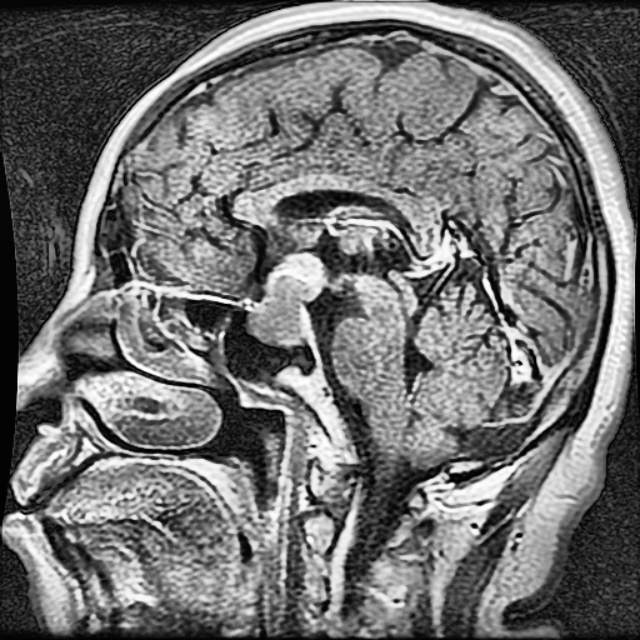Pituitary: (248, 253, 327, 345)
